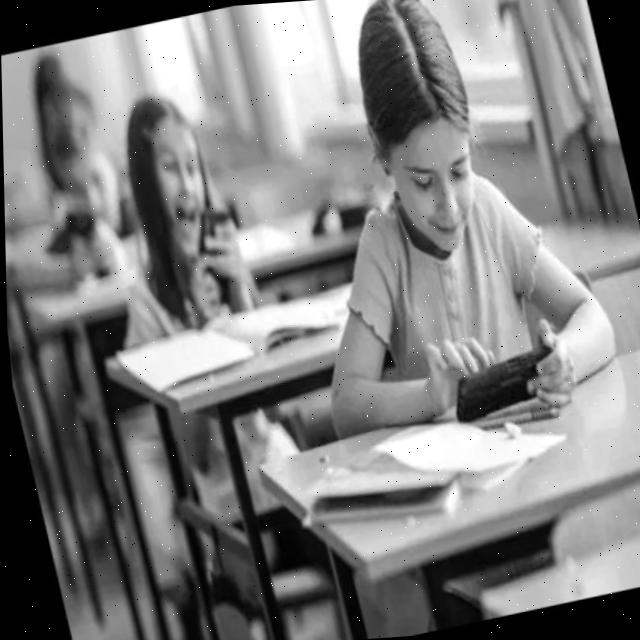phone: (439, 340, 564, 424), (185, 200, 248, 292), (62, 206, 96, 241)
